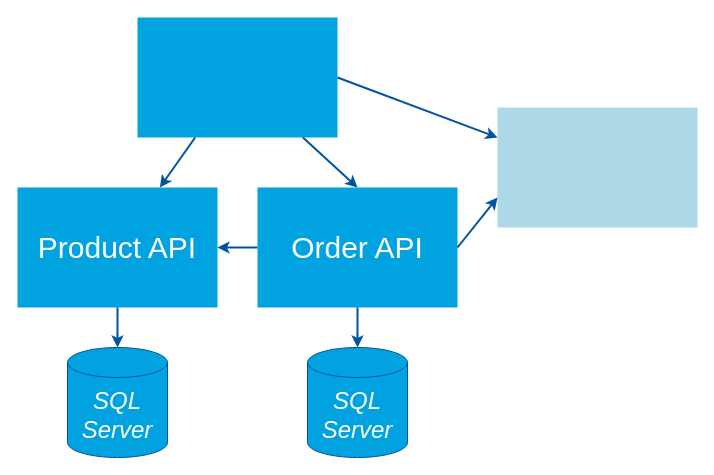
Image size: 714x475. Some labels were removed from this diagram. The shapes that lost their labels are listed below. From the top down, each one's box as (x1, y1, x2, y2) in pixels, then its label:
(137, 17, 337, 137): UI
(497, 107, 697, 227): Zip Code API <<external>>
